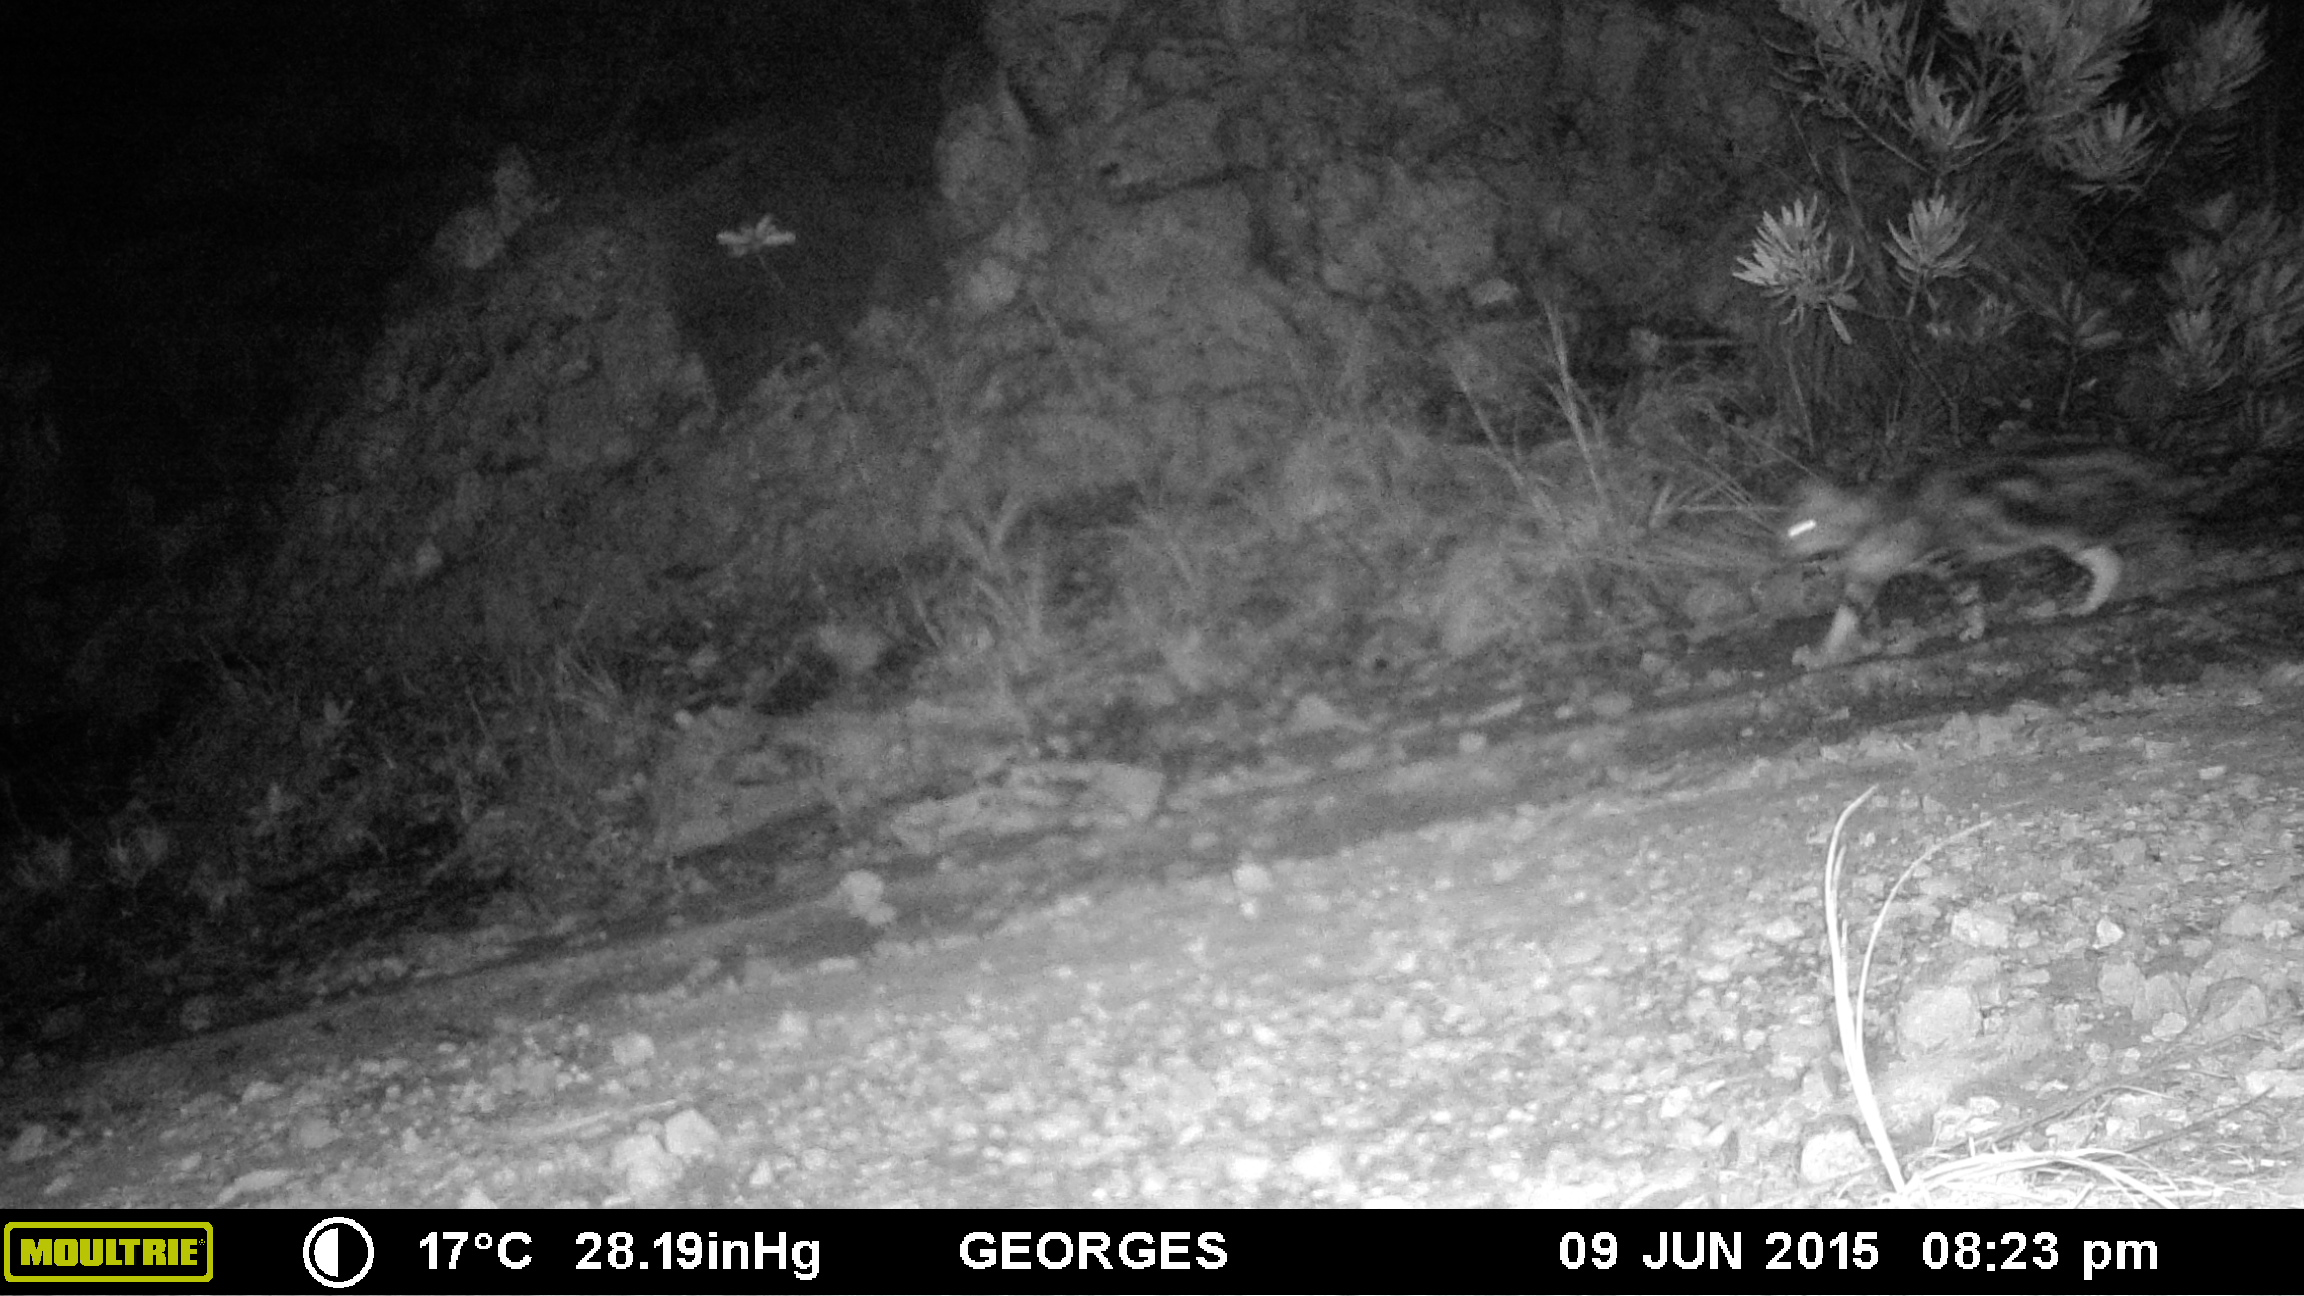cat: (1771, 434, 2184, 696)
